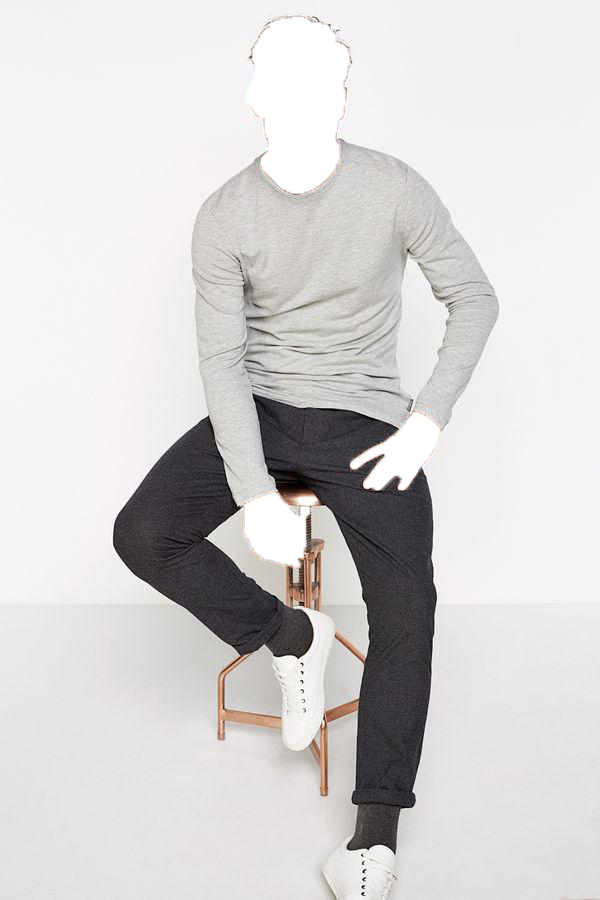teeshirt: (177, 140, 503, 510)
